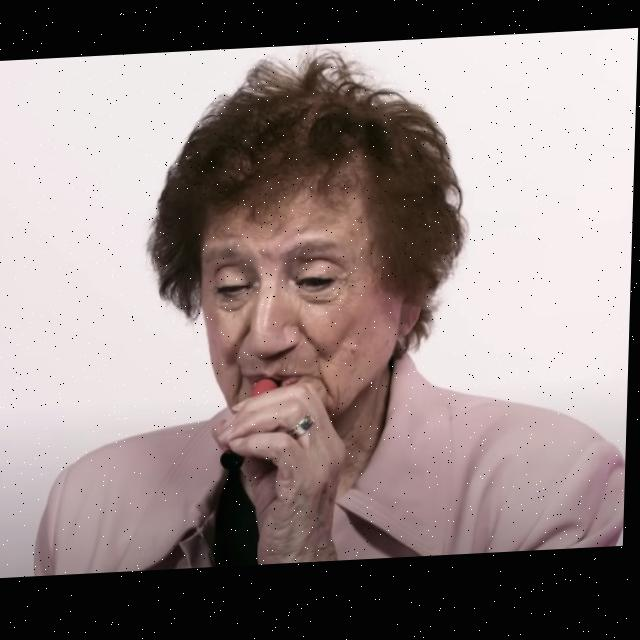vape: (222, 380, 285, 475)
